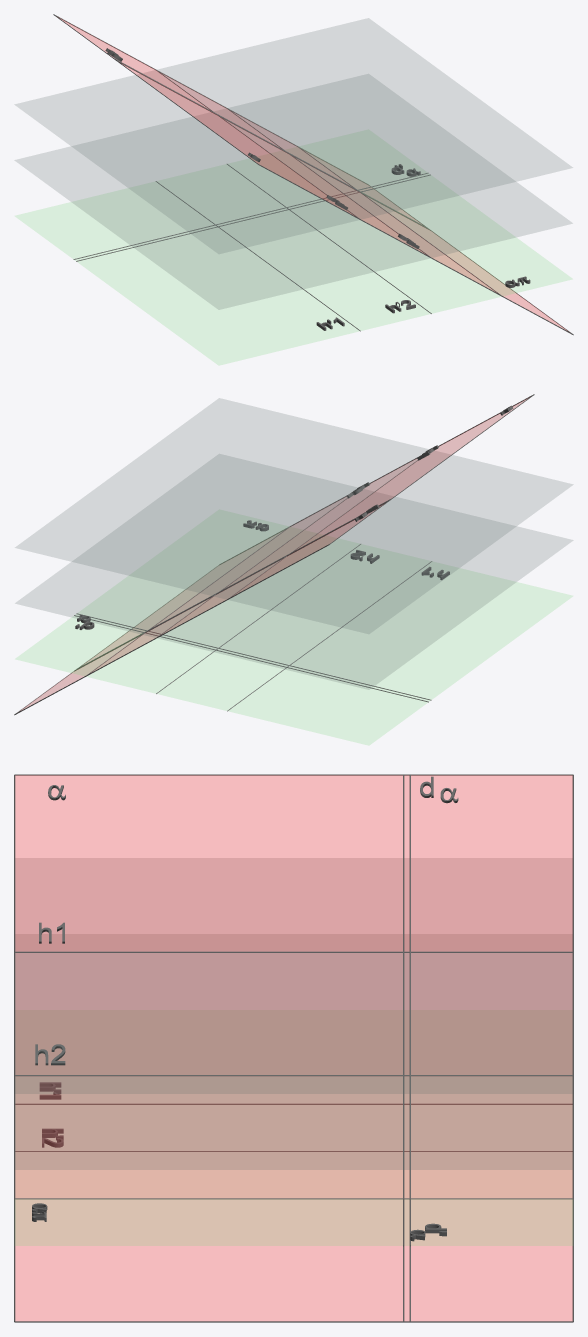
Rendered from reta_decliveN.gltf.
3 renders of one model, top to bottom at view 1: azimuth 30°, elevation 25°; view 2: azimuth 150°, elevation 25°; view 3: azimuth 270°, elevation 25°, orthographic. The views are drawn at different scales.
Parts seen in each view (by area): view 1: object 21, root, Pipe (×3), Pipe#2 (×2); view 2: object 21, root, Pipe (×3), Pipe#2; view 3: root, object 21, Pipe (×5), Pipe#2 (×4).
Boxes of the visible parts, x1=… form: object 21: x1=15, y1=18, x2=572, y2=365; root: x1=60, y1=18, x2=565, y2=329; Pipe (×3): x1=73, y1=60, x2=430, y2=261; Pipe#2 (×2): x1=54, y1=14, x2=573, y2=335; object 21: x1=15, y1=398, x2=572, y2=745; root: x1=22, y1=398, x2=527, y2=709; Pipe (×3): x1=74, y1=500, x2=431, y2=702; Pipe#2: x1=14, y1=544, x2=329, y2=715; root: x1=15, y1=775, x2=572, y2=1320; object 21: x1=15, y1=858, x2=572, y2=1245; Pipe (×5): x1=15, y1=775, x2=572, y2=1321; Pipe#2 (×4): x1=14, y1=774, x2=573, y2=1322.
Bounding box in the file's own units: 2.54 × 1.7 × 2.55.
